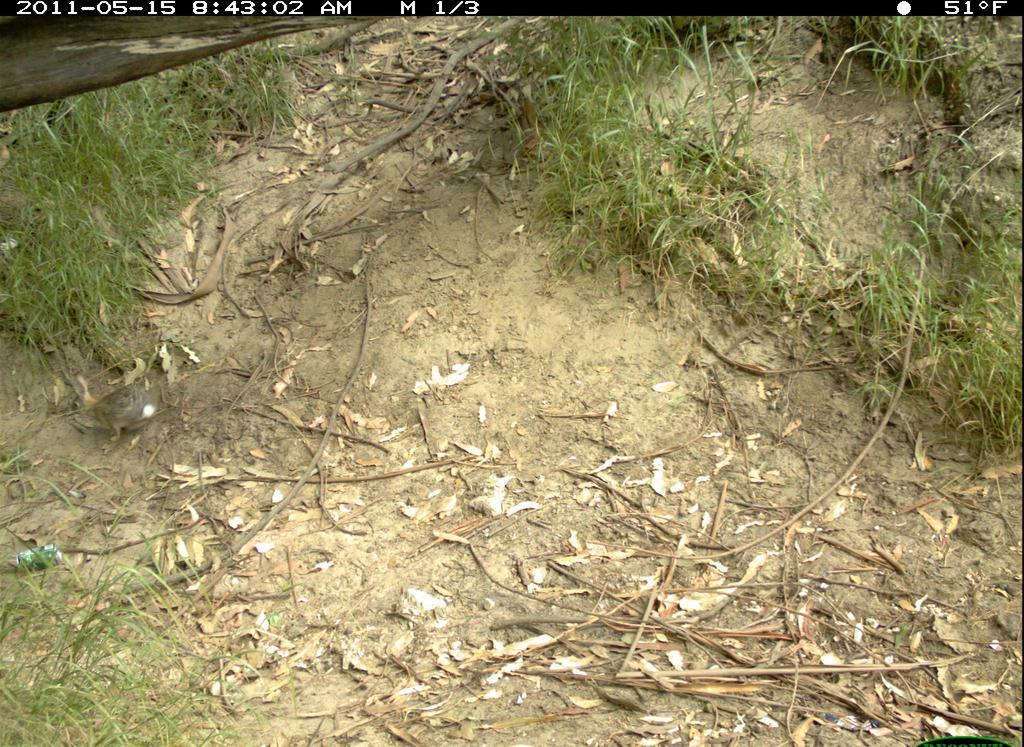rabbit: (65, 355, 175, 461)
